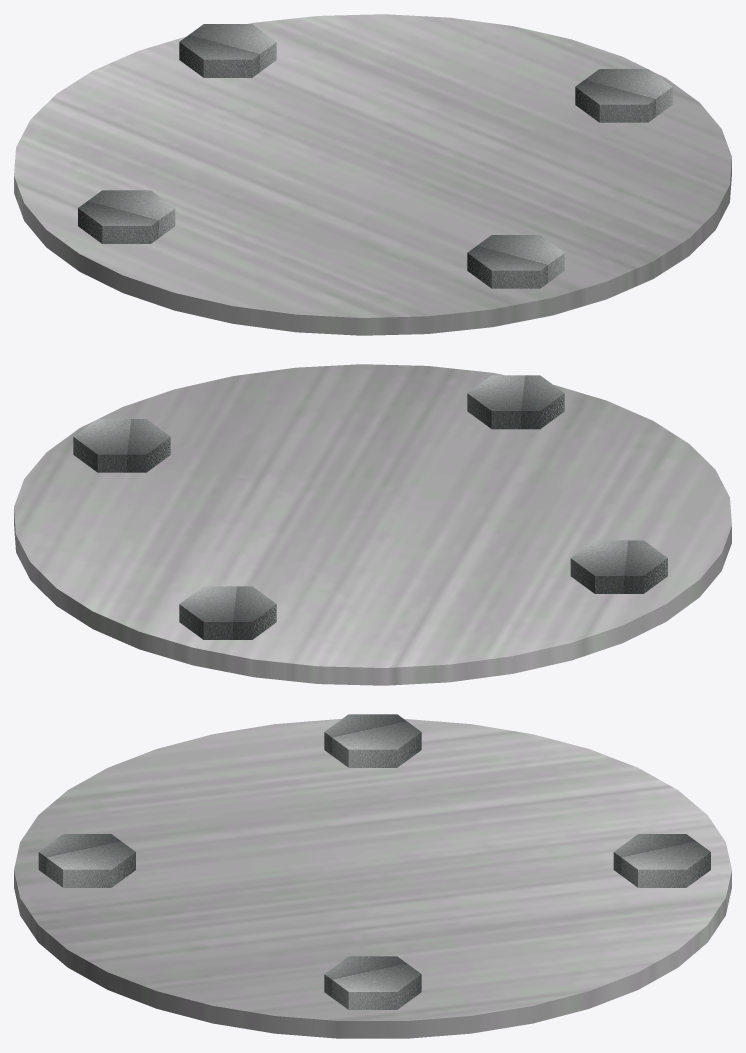
The model's file is 固定してる金属.fbx.
3 views of the same model, one above another, from view 1: azimuth 30°, elevation 25°; view 2: azimuth 150°, elevation 25°; view 3: azimuth 270°, elevation 25° (orthographic).
Visible parts, largest first — view 1: obj1, obj3, obj4, obj6, obj5; view 2: obj1, obj4, obj3, obj6, obj5; view 3: obj1, obj6, obj4, obj5, obj3.
Part boxes in pixels (x1,y1,x2,y2): obj1: [14, 14, 731, 335]; obj3: [78, 190, 175, 243]; obj4: [467, 235, 564, 288]; obj6: [179, 24, 276, 77]; obj5: [575, 69, 672, 122]; obj1: [14, 364, 731, 685]; obj4: [467, 375, 564, 429]; obj3: [570, 540, 667, 593]; obj6: [179, 586, 276, 639]; obj5: [73, 419, 170, 472]; obj1: [14, 719, 731, 1038]; obj6: [613, 834, 710, 887]; obj4: [38, 834, 135, 887]; obj5: [324, 956, 421, 1009]; obj3: [324, 714, 421, 767].
Size of the model in its own units: 326 by 18.02 by 328.
